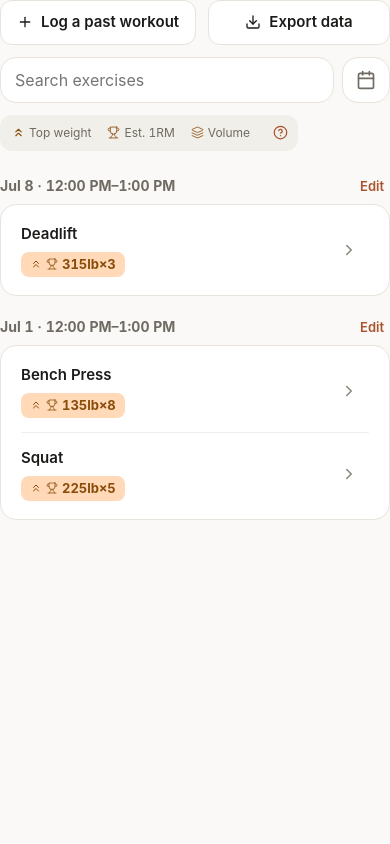
Scenario: HistoryTab search by date › sits beside the search field and opens a calendar with a dot on each workout day
Click the button named "Search by date".
click(366, 80)  # box [342, 57, 389, 103]
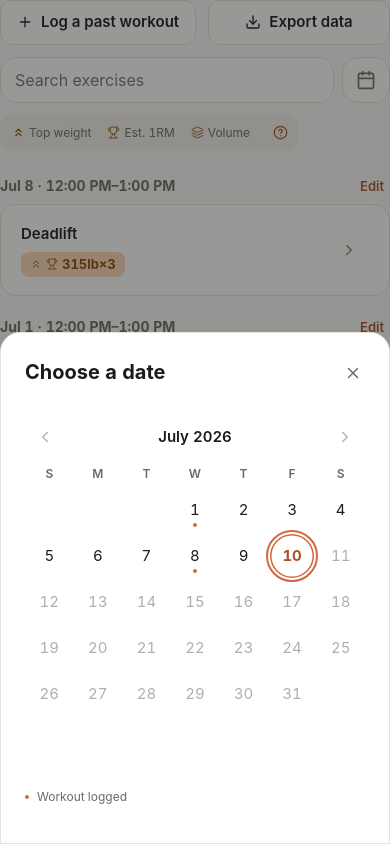
Expected: the button named "Wednesday, July 1, 2026, 1 workout" is shown, [173, 488, 217, 532]
Expected: the button named "Wednesday, July 8, 2026, 1 workout" is shown, [173, 534, 217, 578]
Expected: the button named "Previous month" is disabled, [25, 417, 65, 457]
